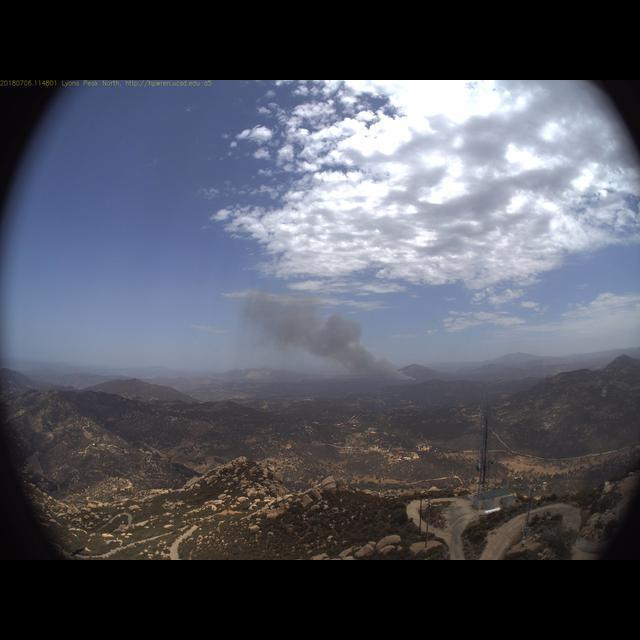Smoke: (238, 275, 421, 392)
